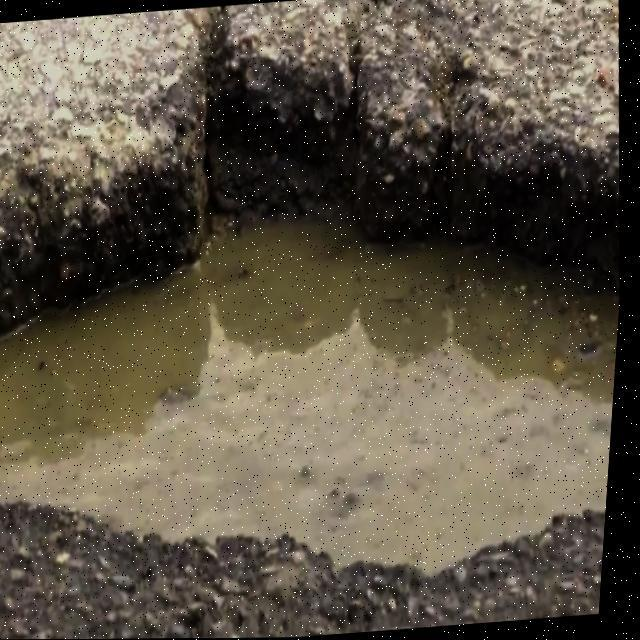pothole: (0, 25, 638, 598)
